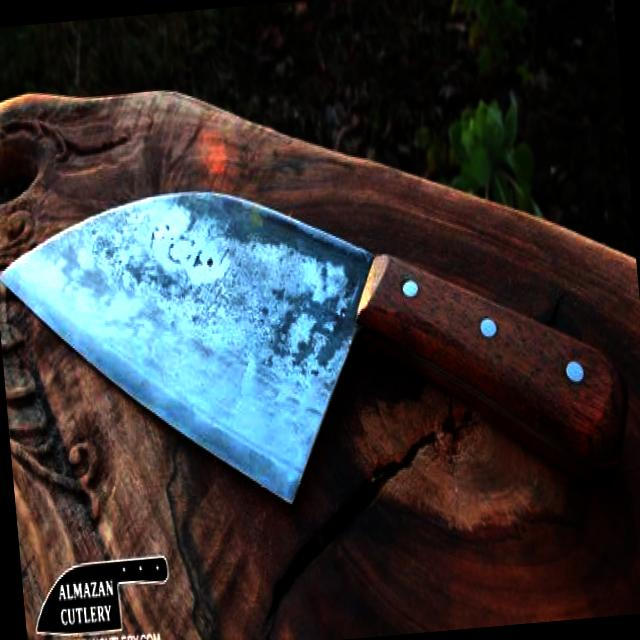cleaver: (0, 162, 627, 516)
